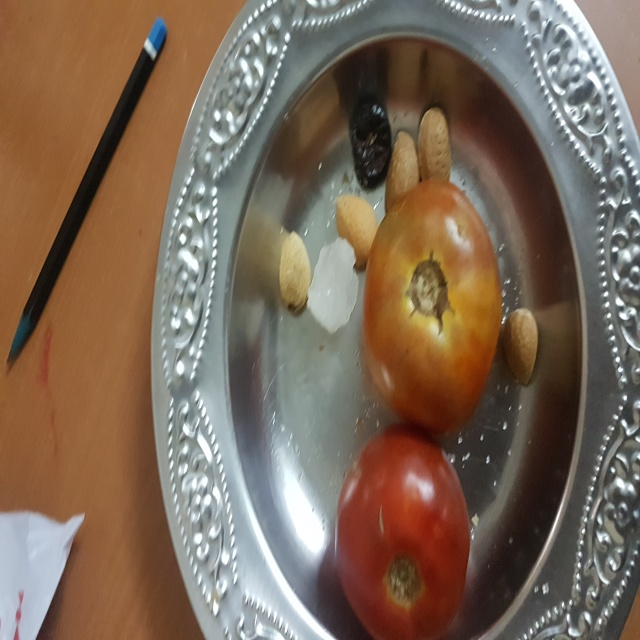tomato: (356, 173, 505, 437), (336, 428, 489, 637)
